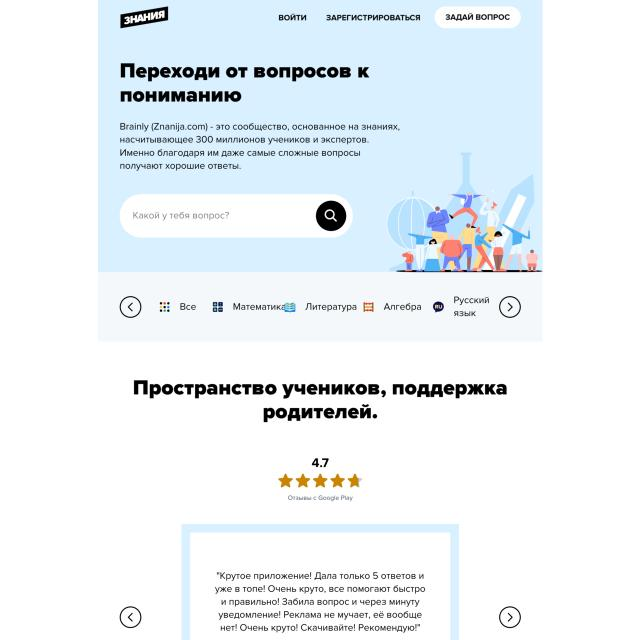input: (119, 194, 353, 240)
logo: (116, 3, 170, 31)
navigation: (274, 4, 520, 29)
